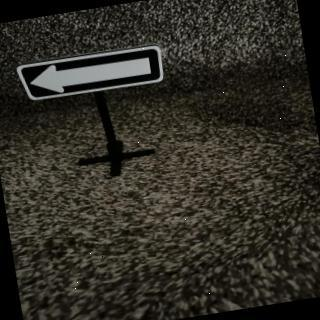sign_oneway_left: (17, 44, 167, 106)
